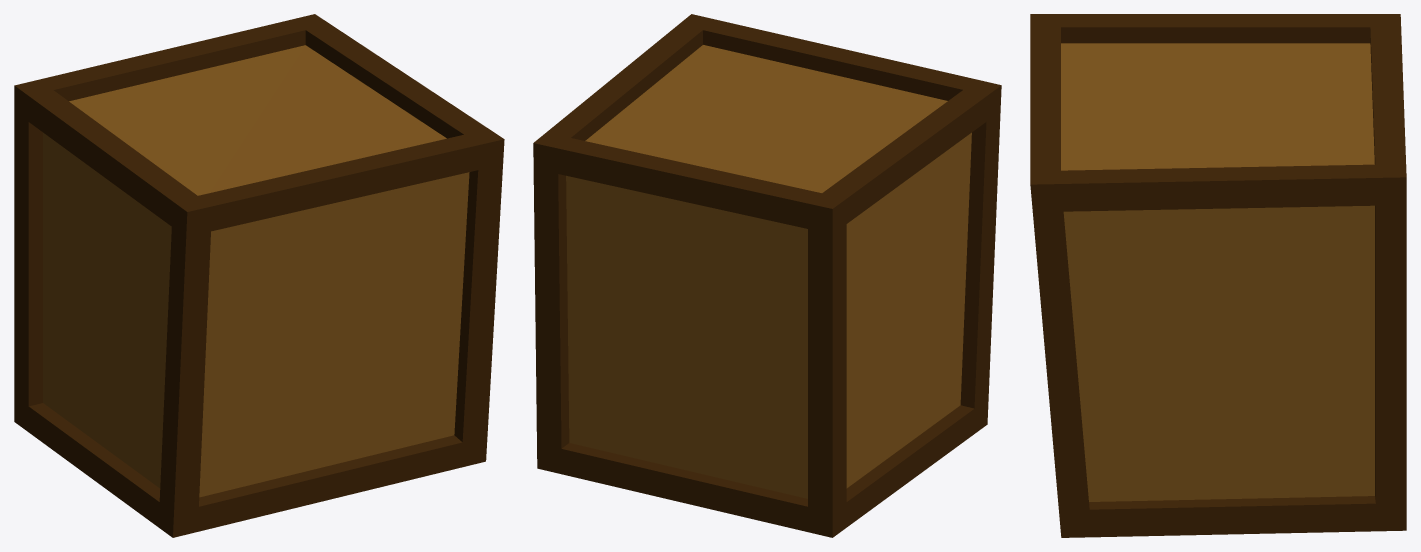
3 renders of one model, left to right at view 1: azimuth 30°, elevation 25°; view 2: azimuth 150°, elevation 25°; view 3: azimuth 270°, elevation 25°, orthographic. The views are drawn at different scales.
Parts seen in each view (by area): view 1: 立方体_1; view 2: 立方体_1; view 3: 立方体_1.
Part boxes in pixels (x1,y1,x2,y2): 立方体_1: [14, 14, 504, 537]; 立方体_1: [533, 14, 1001, 537]; 立方体_1: [1030, 14, 1406, 537].
Size of the model in its own units: 361 by 366 by 347.
